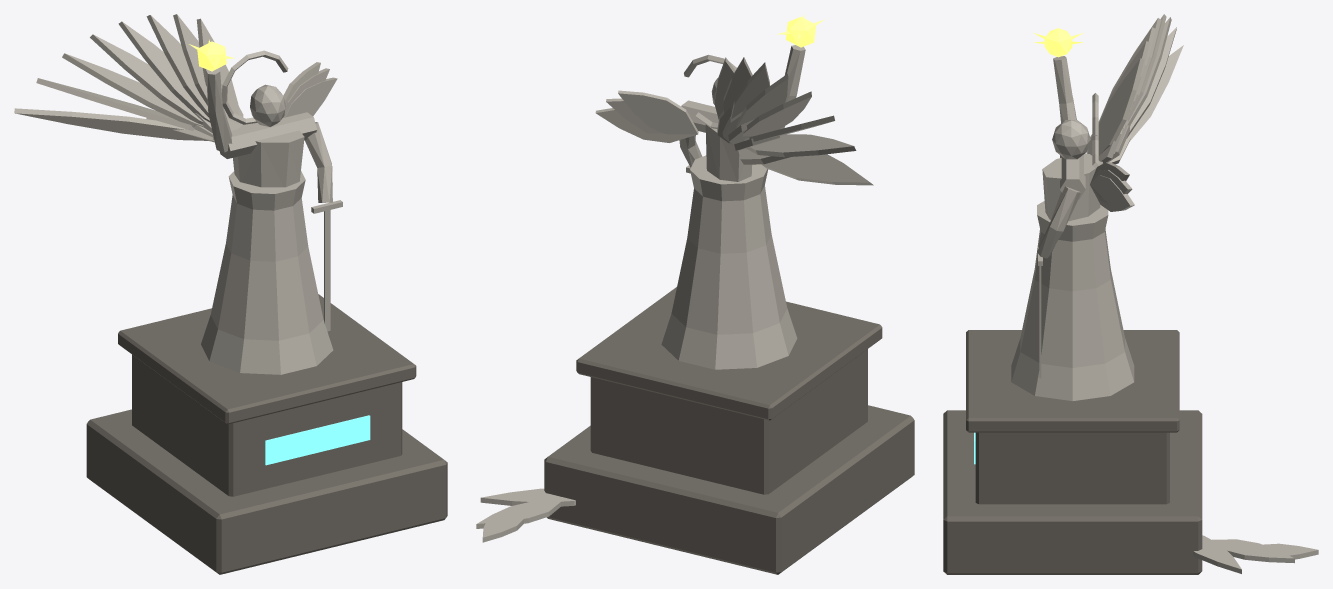
Rendered from estatua_lucero.fbx.
The picture shows the model from 3 angles, left to right: view 1: azimuth 30°, elevation 25°; view 2: azimuth 150°, elevation 25°; view 3: azimuth 270°, elevation 25°; orthographic projection. The views are drawn at different scales.
Visible parts, largest first — view 1: estatua_lucero; view 2: estatua_lucero; view 3: estatua_lucero.
Part boxes in pixels (x1=…): estatua_lucero: x1=14, y1=14, x2=447, y2=574; estatua_lucero: x1=476, y1=14, x2=914, y2=574; estatua_lucero: x1=943, y1=14, x2=1318, y2=574.
Bounding box in the file's own units: 6.09 × 7.92 × 5.8.
